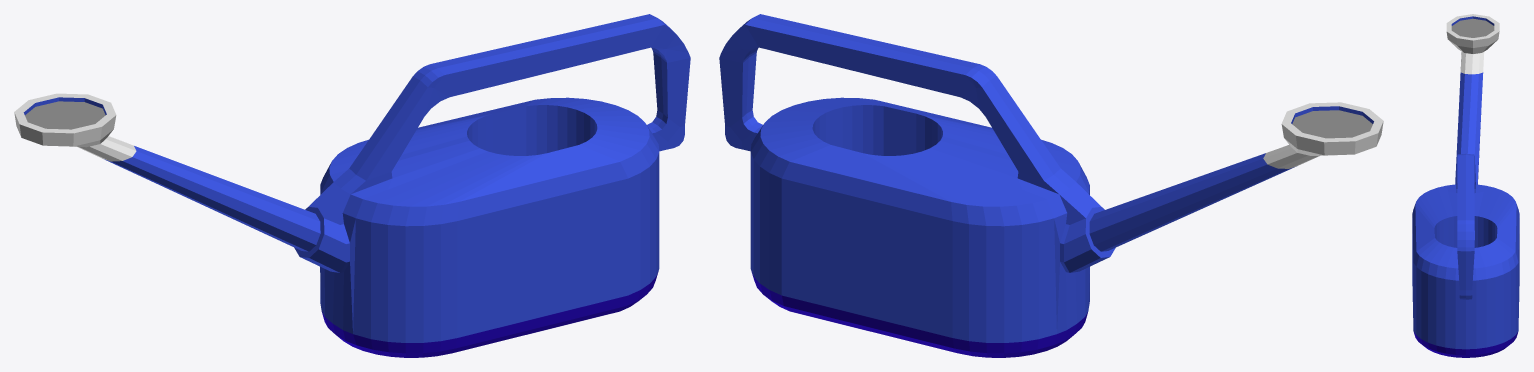
File: 如雨露.fbx
3 views of the same model, side by side, from view 1: azimuth 30°, elevation 25°; view 2: azimuth 150°, elevation 25°; view 3: azimuth 270°, elevation 25° (orthographic). The views are drawn at different scales.
Visible parts, largest first — view 1: 円; view 2: 円; view 3: 円.
Part boxes in pixels (x1,y1,x2,y2): 円: (14, 14, 690, 357); 円: (719, 14, 1383, 357); 円: (1412, 14, 1519, 357).
Size of the model in its own units: 830 by 353 by 200.
